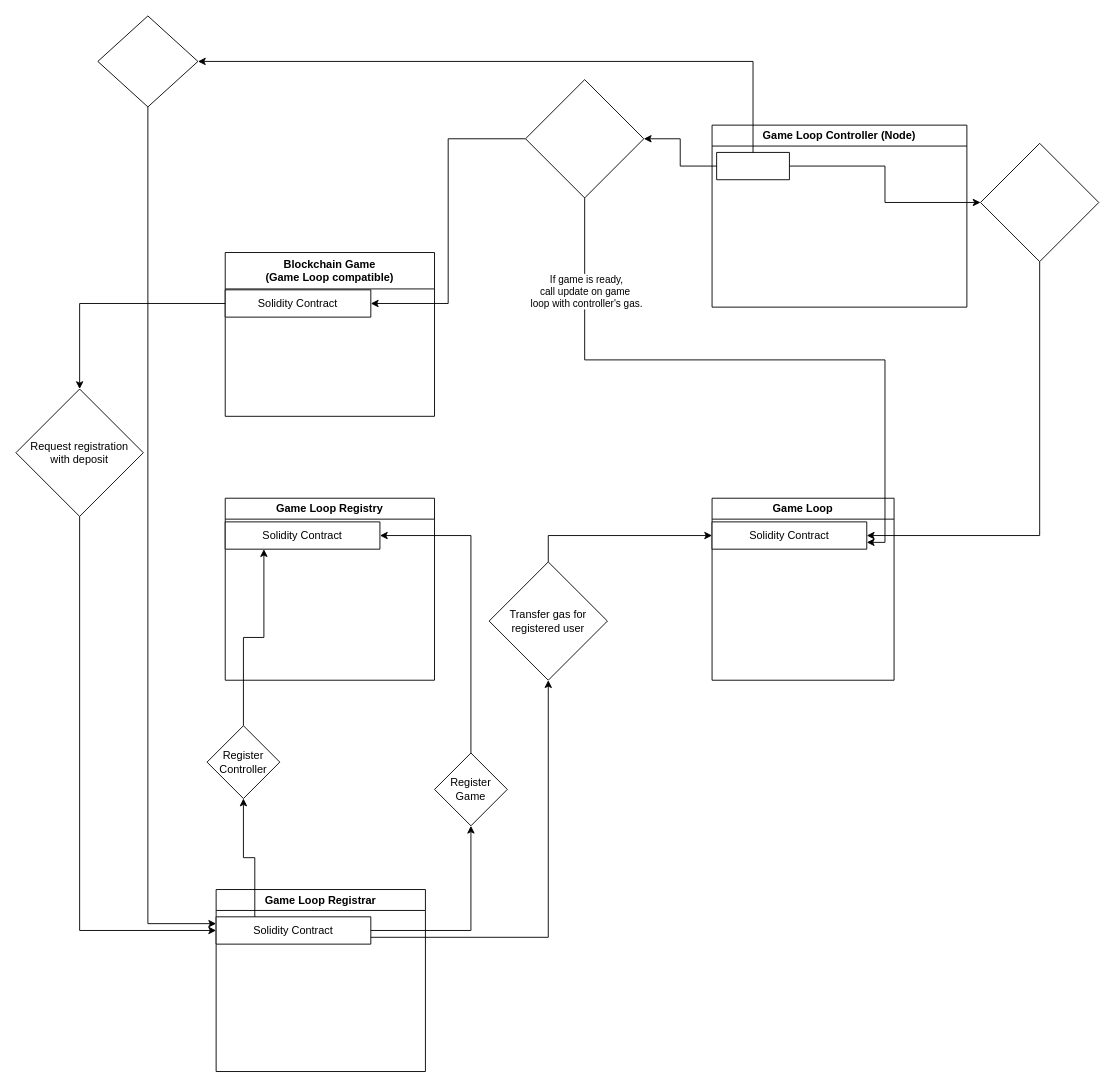
The diagram is 1115 pixels wide and 1087 high, and some of its shapes have lost their labels. Each missing label, with the centre of its shape:
"Check to see if game loop is ready to progress" goes at (584,138).
"Registers as controller" goes at (147,61).
"Server" goes at (752,166).
"Withdraw spent gas fees + comission" goes at (1039,202).
